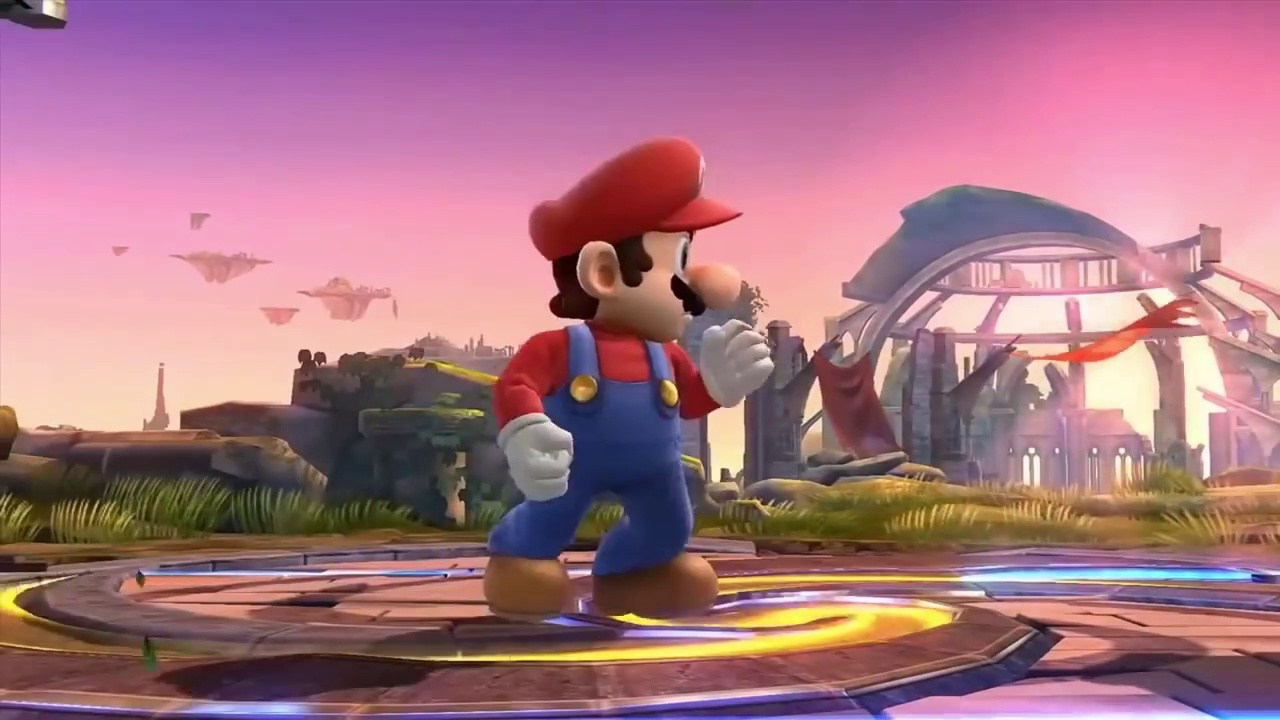Mario: (478, 136, 774, 617)
